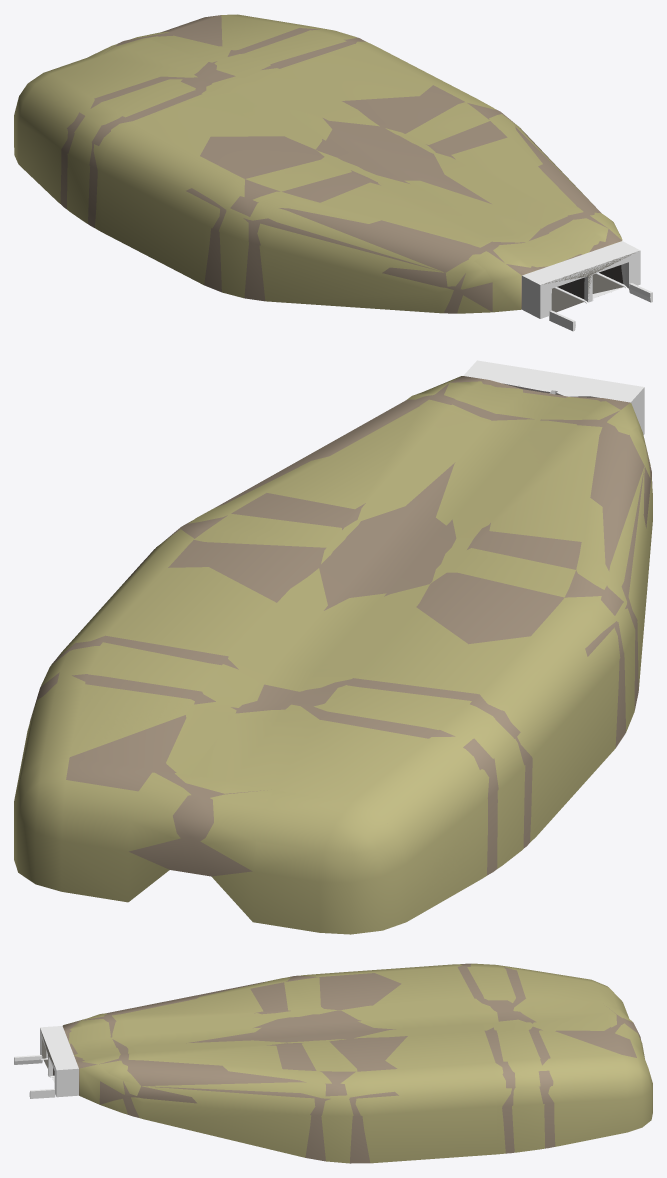
The model's file is tunnel_island.dae.
The picture shows the model from 3 angles, top to bottom: view 1: azimuth 30°, elevation 25°; view 2: azimuth 150°, elevation 25°; view 3: azimuth 270°, elevation 25°; orthographic projection. The views are drawn at different scales.
Parts seen in each view (by area): view 1: tunnel_island_a1000, tunnel_island_a500, tunnel_island_a2000; view 2: tunnel_island_a1000, tunnel_island_a500, tunnel_island_a2000; view 3: tunnel_island_a1000, tunnel_island_a500, tunnel_island_a2000.
Part boxes in pixels (<box>): tunnel_island_a1000: <box>14,14,640,318</box>; tunnel_island_a500: <box>60,15,638,313</box>; tunnel_island_a2000: <box>18,15,652,331</box>; tunnel_island_a1000: <box>14,360,652,934</box>; tunnel_island_a500: <box>29,376,652,876</box>; tunnel_island_a2000: <box>14,364,652,921</box>; tunnel_island_a1000: <box>40,963,652,1163</box>; tunnel_island_a500: <box>41,963,640,1163</box>; tunnel_island_a2000: <box>14,965,652,1159</box>.
Size of the model in its own units: 78.5 by 158 by 21.84.
